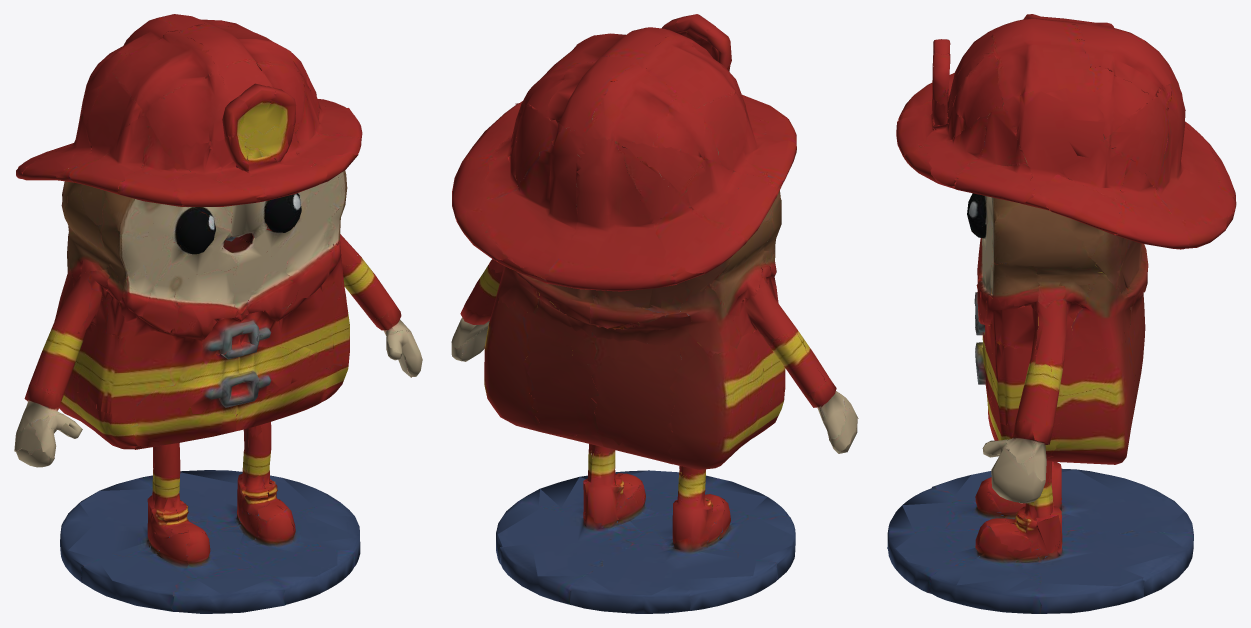
File: brave-firefighter.glb
The picture shows the model from 3 angles, left to right: view 1: azimuth 30°, elevation 25°; view 2: azimuth 150°, elevation 25°; view 3: azimuth 270°, elevation 25°; orthographic projection. The views are drawn at different scales.
Parts seen in each view (by area): view 1: Mesh_0; view 2: Mesh_0; view 3: Mesh_0.
Boxes of the visible parts, left/top/right/bottom form: Mesh_0: left=14, top=14, right=422, bottom=613; Mesh_0: left=451, top=14, right=858, bottom=613; Mesh_0: left=887, top=14, right=1236, bottom=613.
Size of the model in its own units: 1.53 by 1.9 by 1.14.
1 material, 1 textured.
